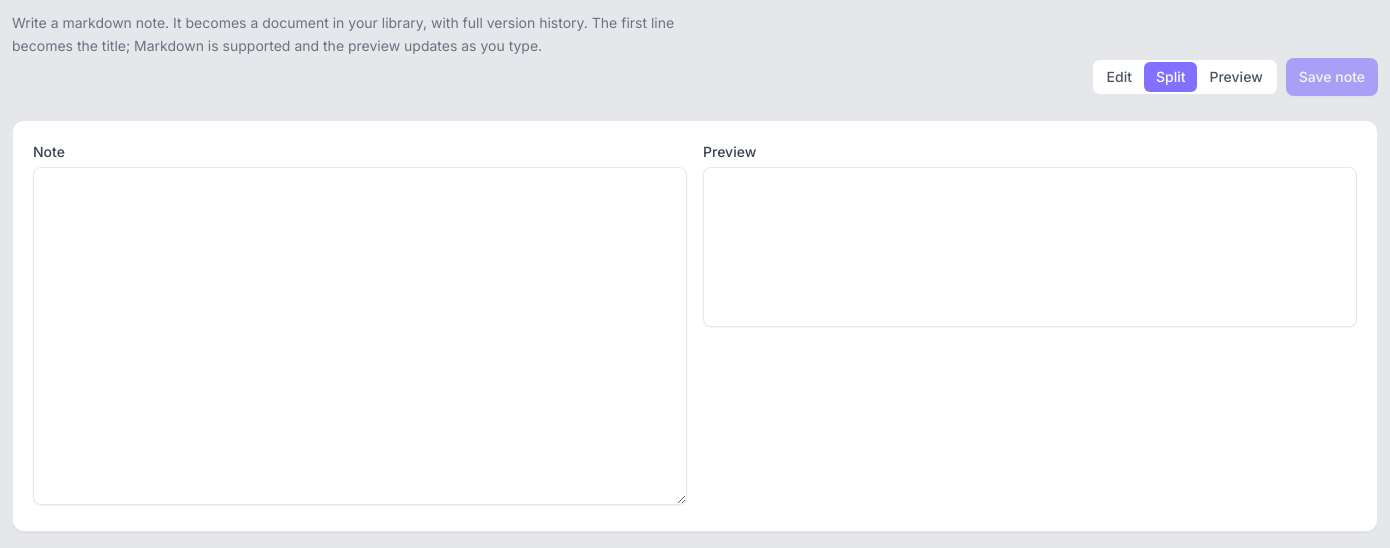
Test: NewNoteView › shows only the editor in edit mode and only the preview in preview mode
Click the button with test id "mode-edit" at (1119, 76), box [1095, 62, 1144, 92]
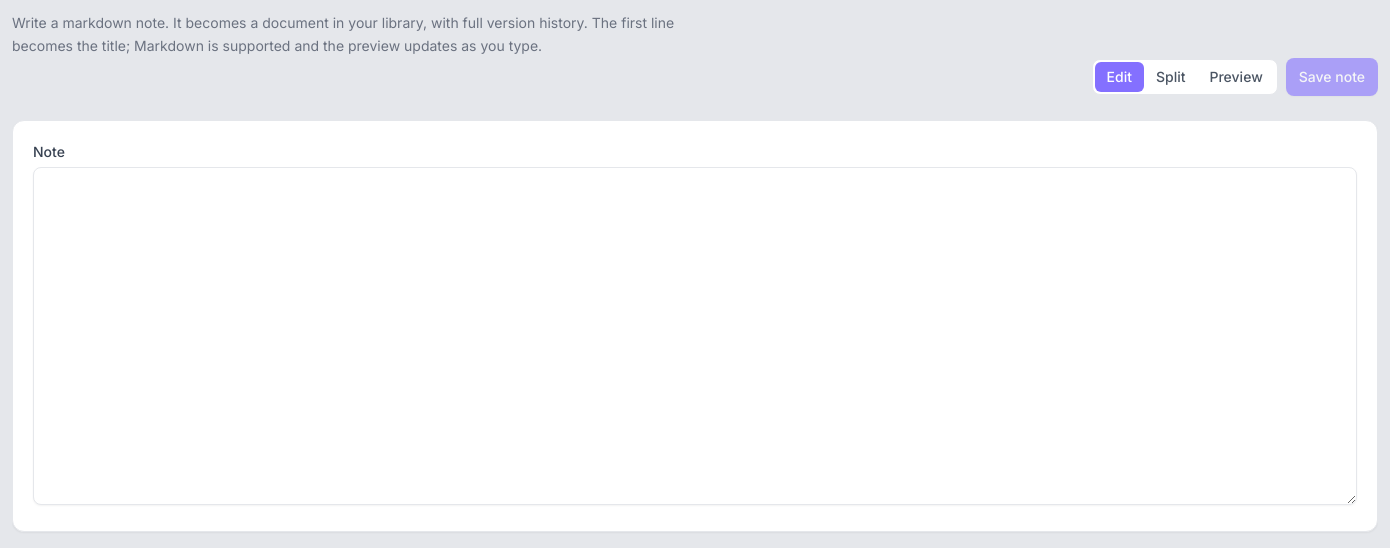
Click the button with test id "mode-preview" at (1236, 76), box [1198, 62, 1275, 92]
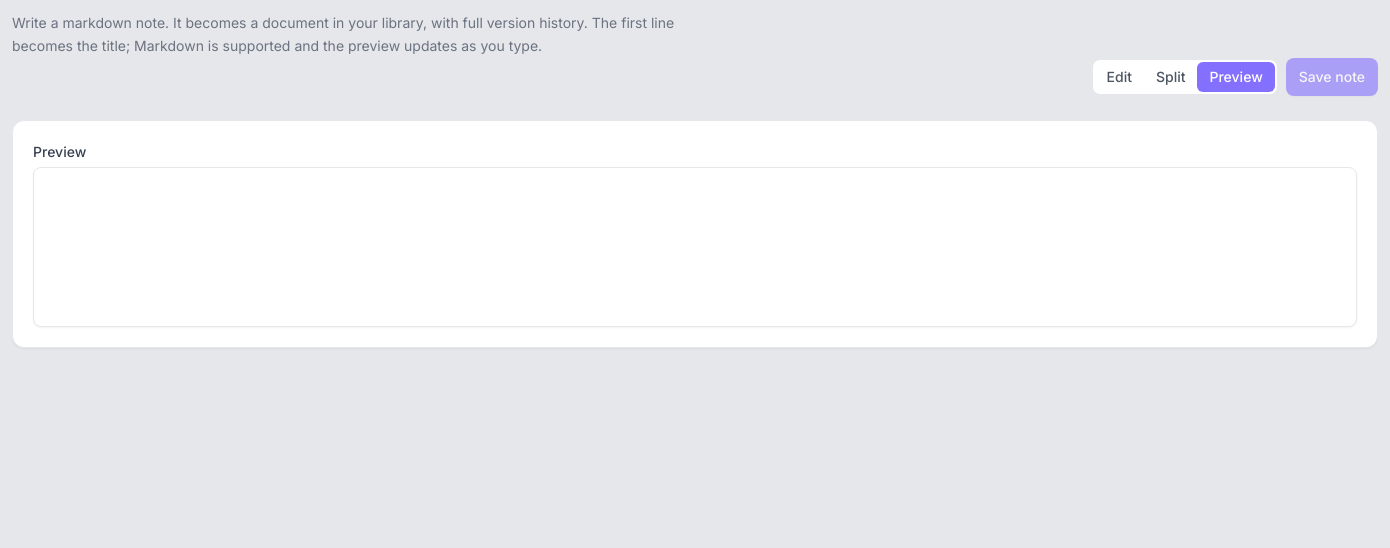
Expected: the element with test id "note-preview-pane" is shown, [33, 140, 1357, 326]
